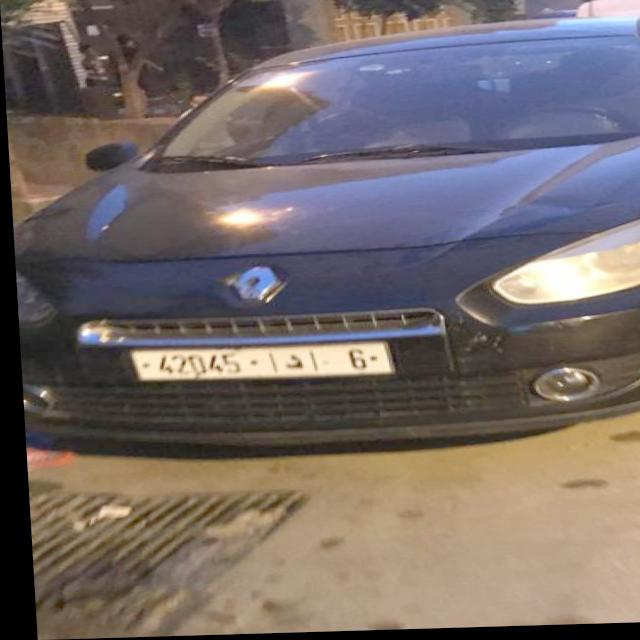License-Plate: (128, 345, 386, 382)
